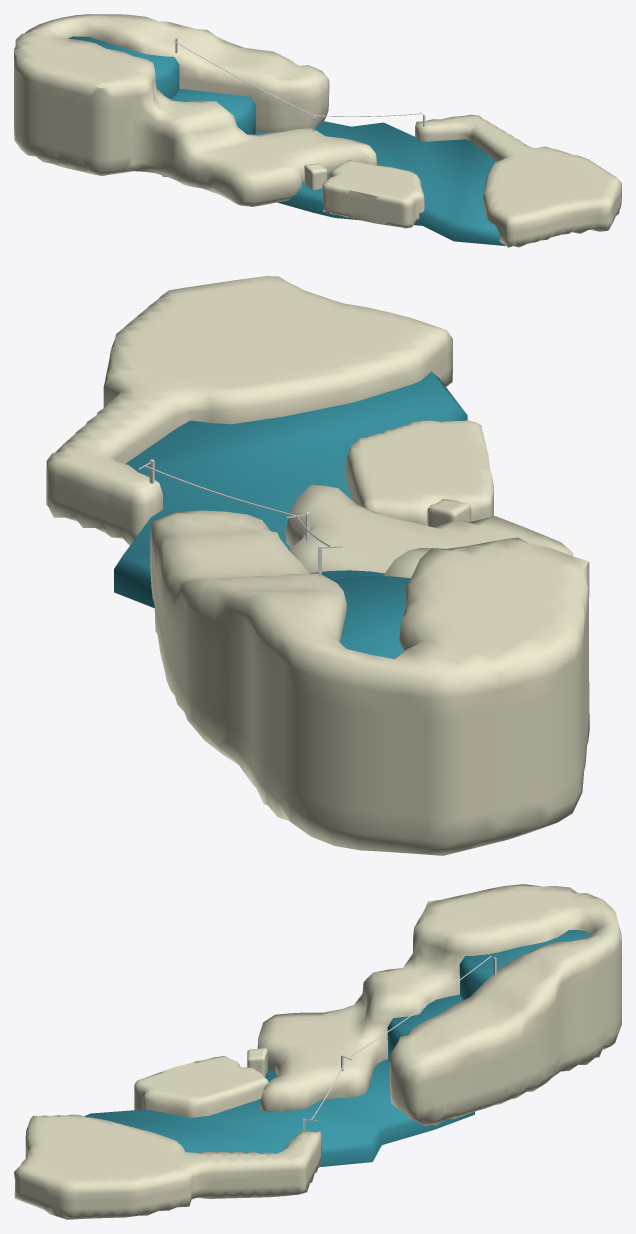
Rendered from map_Vn2.fbx.
3 renders of one model, top to bottom at view 1: azimuth 30°, elevation 25°; view 2: azimuth 150°, elevation 25°; view 3: azimuth 270°, elevation 25°, orthographic. The views are drawn at different scales.
Parts seen in each view (by area): view 1: Plane, Plane.003, Plane.005, Plane.002, Cylinder.003, Cylinder.002, Plane.001, NurbsPath; view 2: Plane, Plane.003, Plane.005, Plane.002, Cylinder.002, Plane.001; view 3: Plane, Plane.003, Plane.005, Plane.002, Cylinder.002, Cylinder.003, Plane.001.
Boxes of the visible parts, box(x1,y1,x2,y2) form: Plane: box(14, 14, 376, 206); Plane.003: box(415, 114, 621, 247); Plane.005: box(162, 121, 512, 246); Plane.002: box(322, 159, 424, 228); Cylinder.003: box(171, 89, 255, 134); Cylinder.002: box(68, 36, 179, 99); Plane.001: box(304, 163, 327, 189); NurbsPath: box(174, 41, 421, 116); Plane: box(150, 484, 589, 855); Plane.003: box(46, 276, 452, 545); Plane.005: box(114, 371, 467, 607); Plane.002: box(345, 420, 493, 525); Cylinder.002: box(332, 576, 410, 658); Plane.001: box(427, 499, 471, 527); Plane: box(257, 884, 621, 1125); Plane.003: box(14, 1114, 321, 1219); Plane.005: box(84, 1059, 474, 1166); Plane.002: box(134, 1056, 268, 1117); Cylinder.002: box(459, 930, 590, 999); Cylinder.003: box(387, 994, 462, 1062); Plane.001: box(247, 1048, 267, 1076).
Size of the model in its own units: 55367 by 13114 by 62380.
